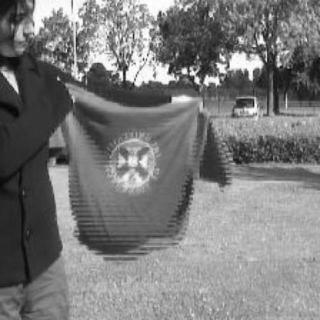other: (38, 82, 244, 256)
